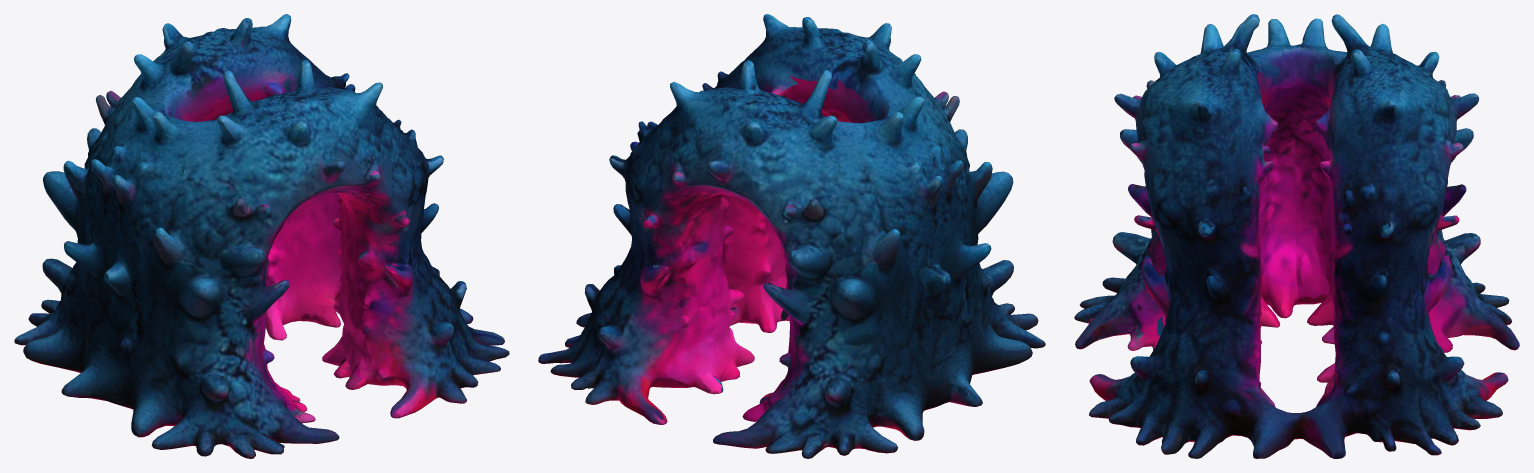
Rendered from tunnel-root-3-generated-2026-05-17T19-25-33-271Z.medium.glb.
3 renders of one model, left to right at view 1: azimuth 30°, elevation 25°; view 2: azimuth 150°, elevation 25°; view 3: azimuth 270°, elevation 25°, orthographic. The views are drawn at different scales.
Parts seen in each view (by area): view 1: temp_mesh.ply; view 2: temp_mesh.ply; view 3: temp_mesh.ply.
Boxes of the visible parts, x1,y1,x2,y2 form: temp_mesh.ply: (14,14,509,458); temp_mesh.ply: (538,14,1045,458); temp_mesh.ply: (1074,14,1519,458).
Bounding box in the file's own units: 1.97 × 1.53 × 1.91.
1 material, 1 textured.
